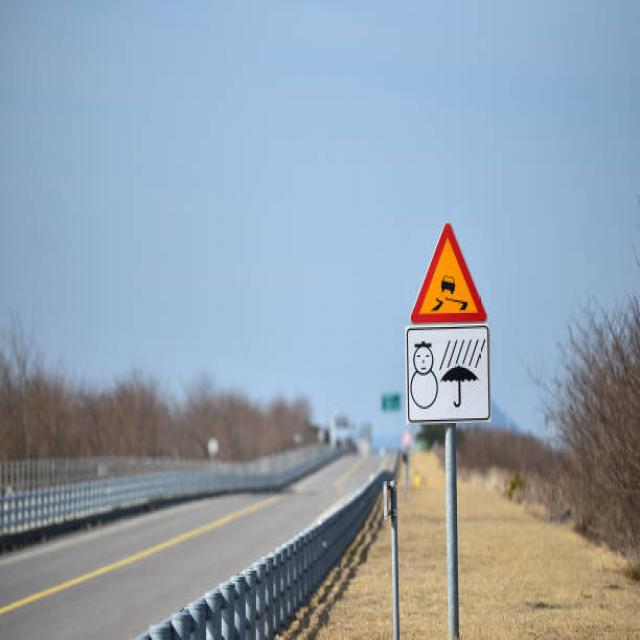road_slippery: (405, 220, 494, 326)
